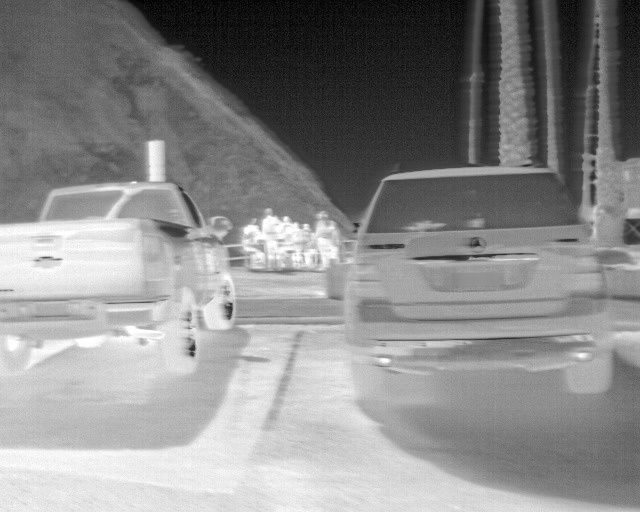vehicle: (344, 167, 615, 405), (1, 179, 238, 376)
